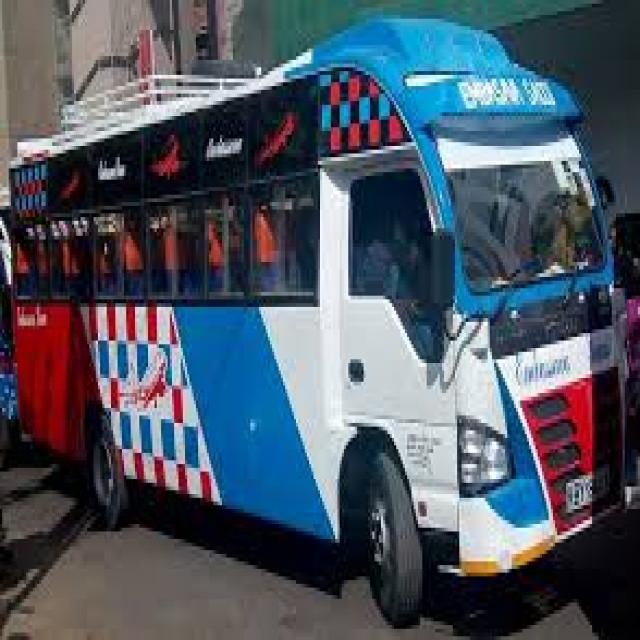bus: (4, 12, 637, 640)
